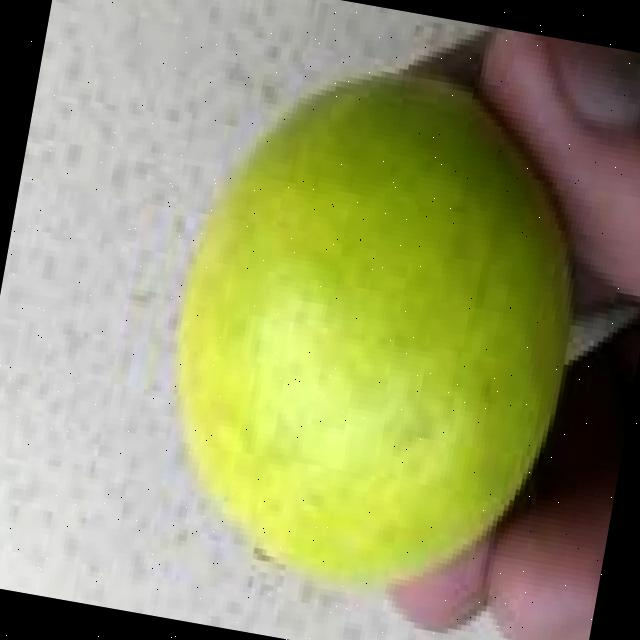Good_Lime-10-21-days: (176, 68, 582, 599)
